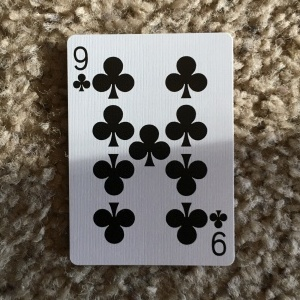card: (65, 33, 235, 267)
